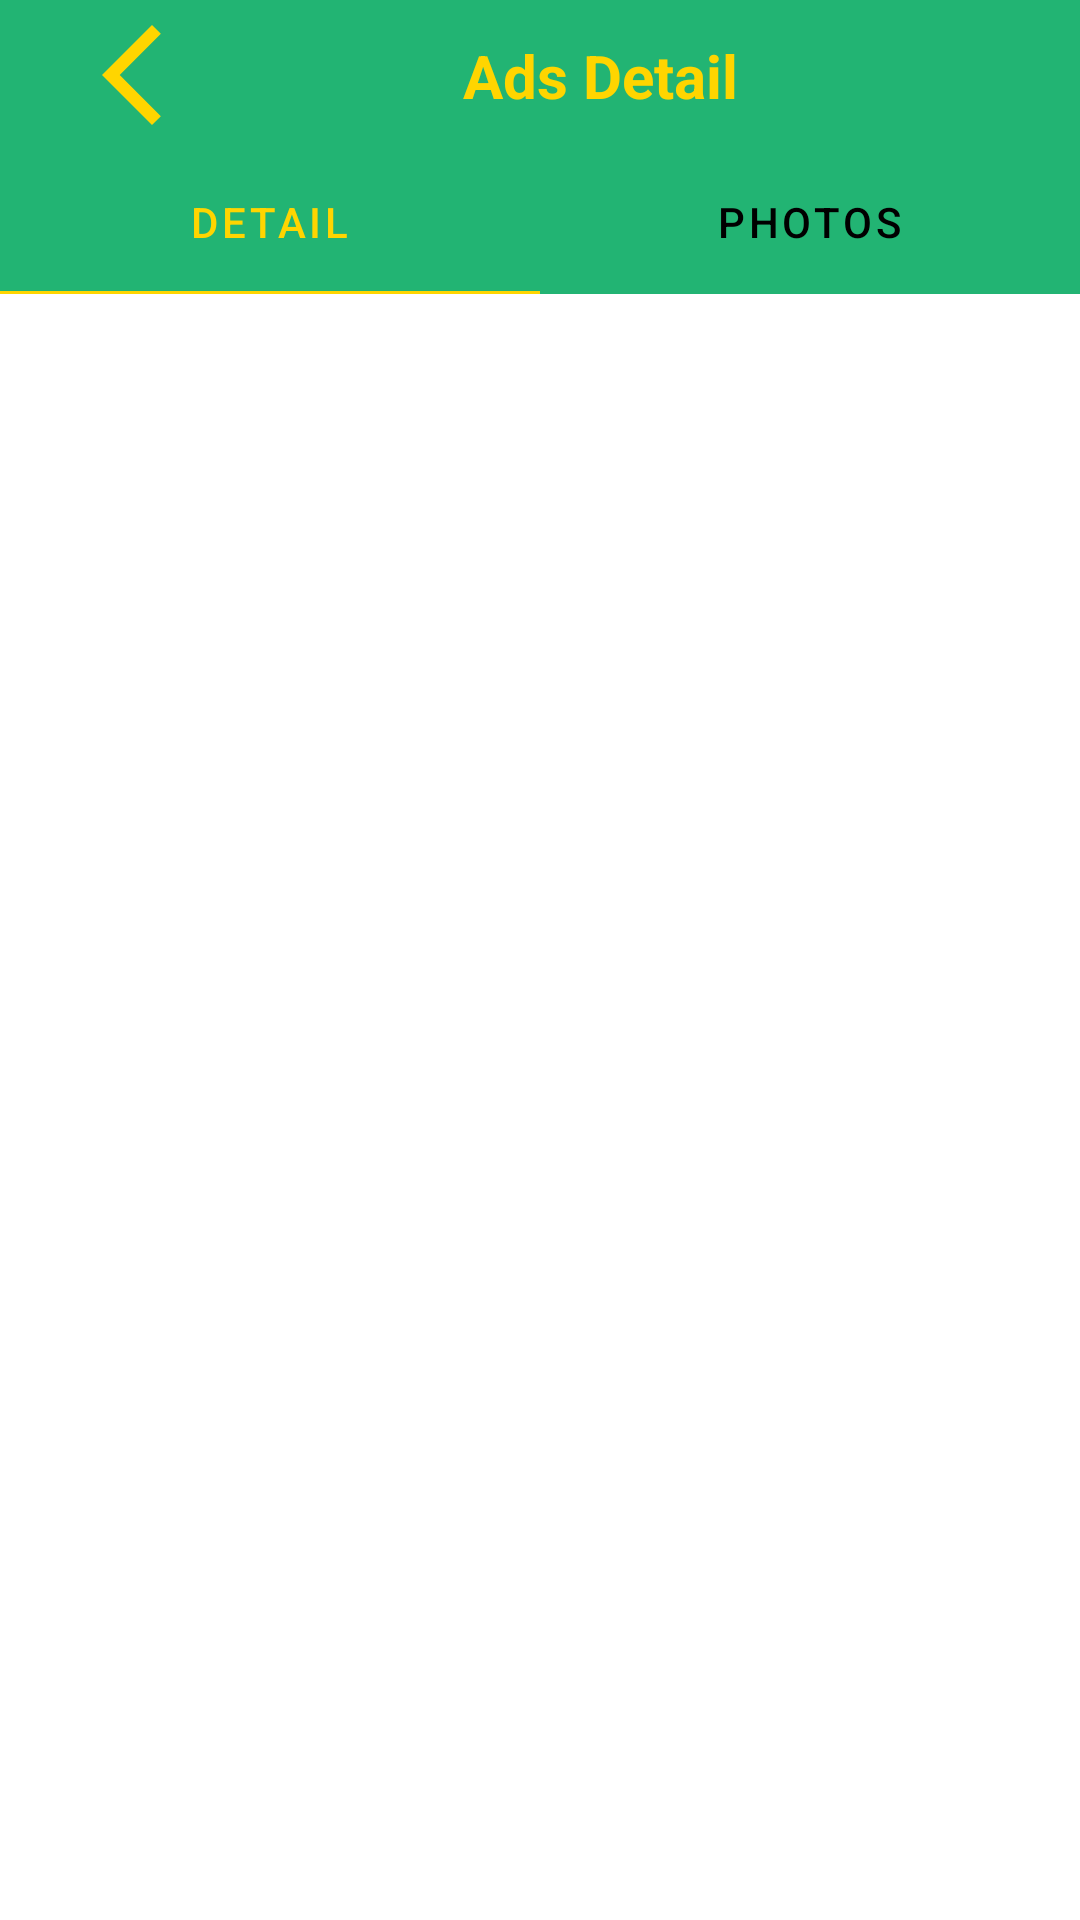

Named icons in this screenshot (1080×1920) and their centers, point (x, y):
back: point (131, 75)
